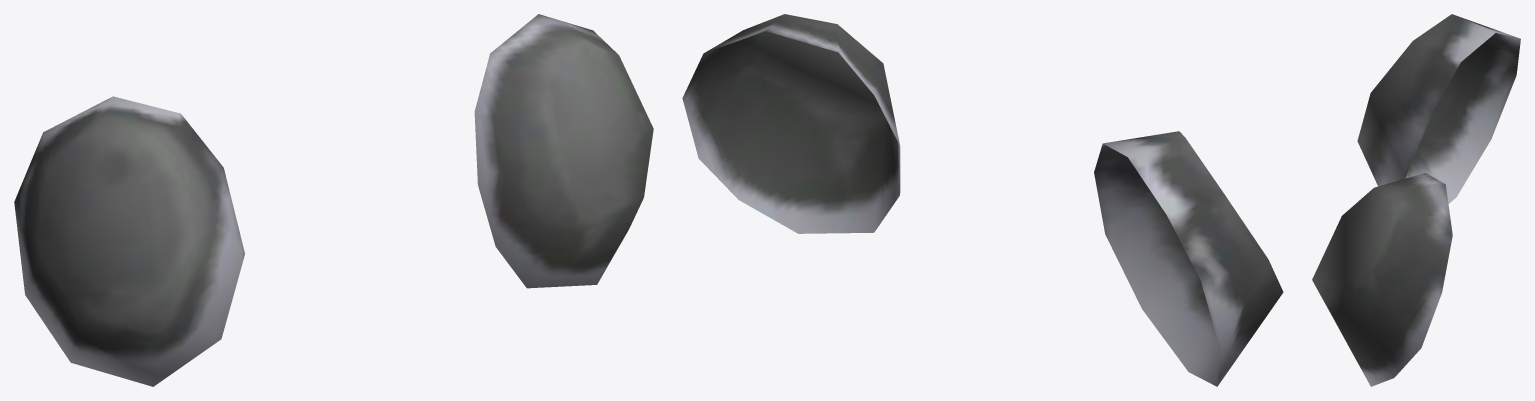
The model's file is Homeworld_Exterior_Common_Prop_Thing_SnowmanEye_02_Vo.fbx.
3 views of the same model, side by side, from view 1: azimuth 30°, elevation 25°; view 2: azimuth 150°, elevation 25°; view 3: azimuth 270°, elevation 25° (orthographic). The views are drawn at different scales.
Parts seen in each view (by area): view 1: Homeworld_Exterior_Common_Prop_Thing_SnowmanEye_02_Vo; view 2: Homeworld_Exterior_Common_Prop_Thing_SnowmanEye_02_Vo; view 3: Homeworld_Exterior_Common_Prop_Thing_SnowmanEye_02_Vo.
Boxes of the visible parts, <box> form: Homeworld_Exterior_Common_Prop_Thing_SnowmanEye_02_Vo: <box>14,14,653,386</box>; Homeworld_Exterior_Common_Prop_Thing_SnowmanEye_02_Vo: <box>682,14,1283,386</box>; Homeworld_Exterior_Common_Prop_Thing_SnowmanEye_02_Vo: <box>1312,14,1520,386</box>.
Bounding box in the file's own units: 0.3951 × 0.1664 × 0.1481.
